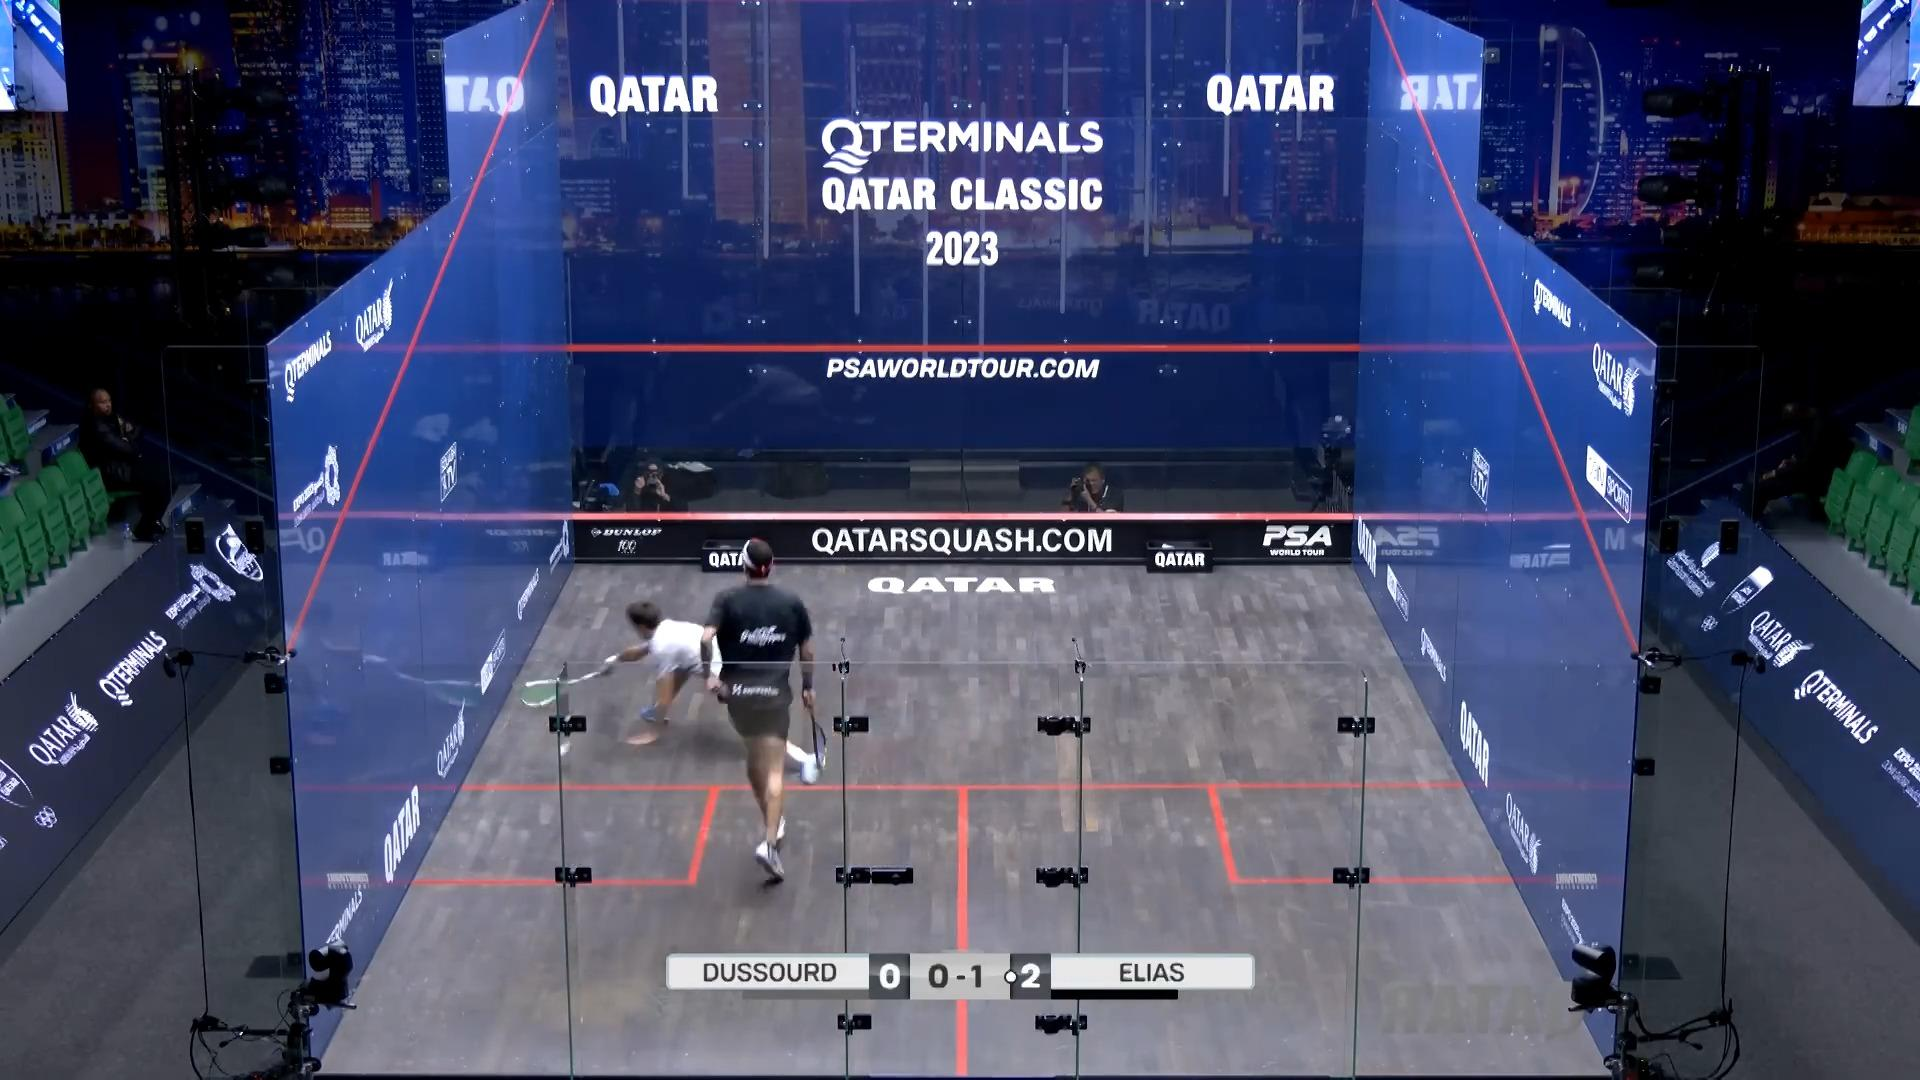Racket: (516, 665, 600, 713), (804, 705, 835, 774)
